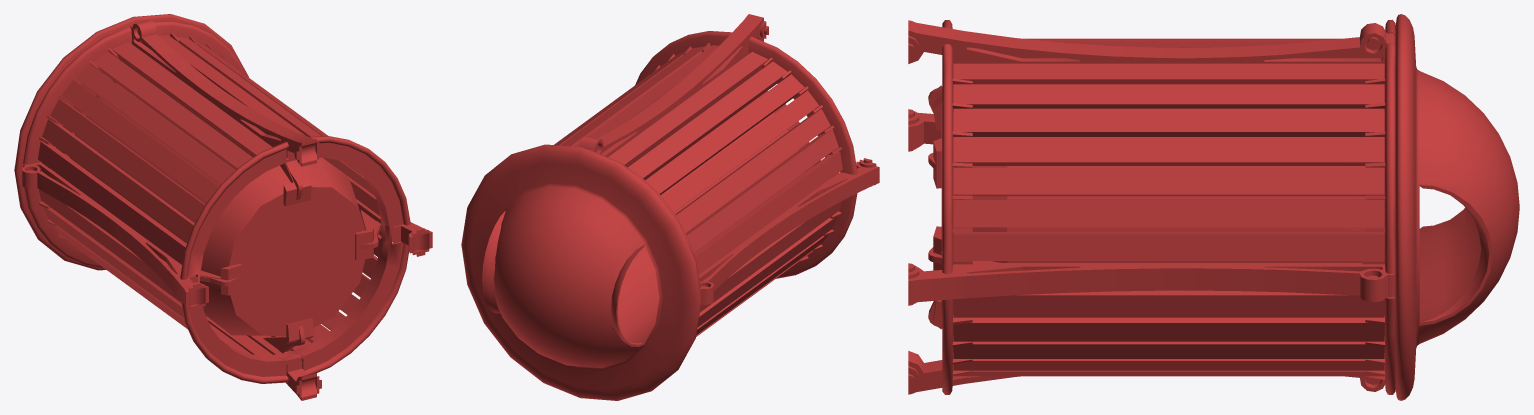
The model's file is Import_GarbageCan.fbx.
3 views of the same model, side by side, from view 1: azimuth 30°, elevation 25°; view 2: azimuth 150°, elevation 25°; view 3: azimuth 270°, elevation 25° (orthographic). The views are drawn at different scales.
Parts seen in each view (by area): view 1: Component_7_1, Component_8_1; view 2: Component_7_1, Component_8_1; view 3: Component_7_1, Component_8_1.
Part boxes in pixels (box(x1,y1,x2,y2)): Component_7_1: box(22, 20, 432, 400); Component_8_1: box(14, 14, 248, 270); Component_7_1: box(554, 14, 879, 343); Component_8_1: box(461, 144, 701, 400); Component_7_1: box(908, 19, 1395, 394); Component_8_1: box(1346, 14, 1519, 400).
Size of the model in its own units: 295 by 449 by 295.
